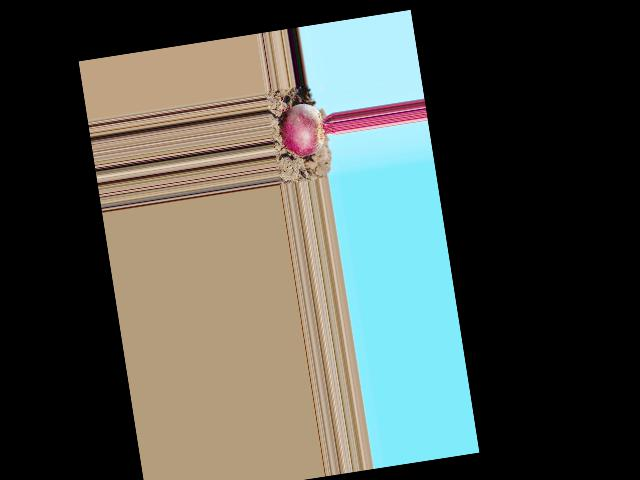beet: (276, 98, 338, 159)
